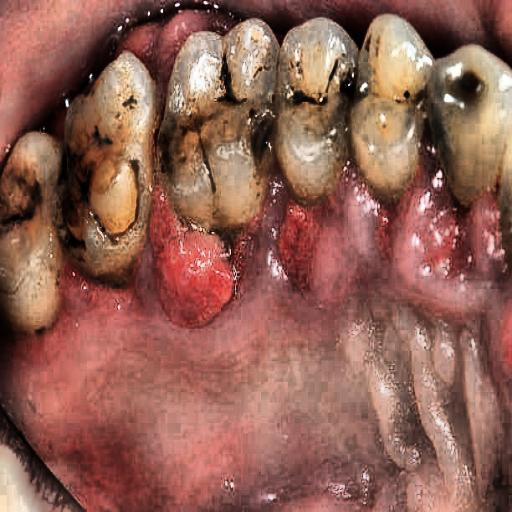Calculus: (2, 52, 512, 248)
